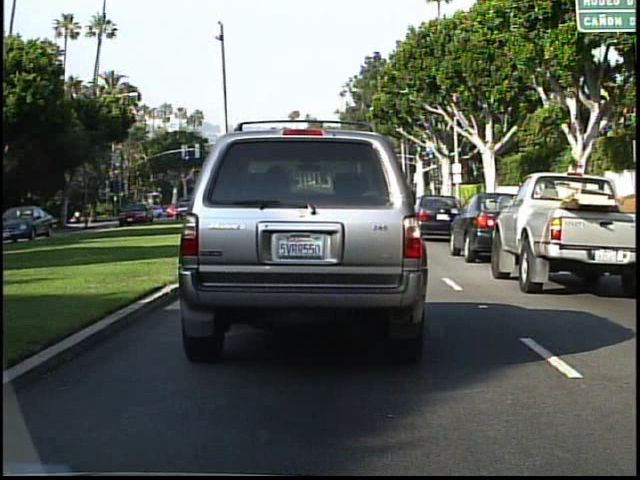car: (175, 133, 451, 359), (504, 171, 640, 295), (447, 196, 504, 259), (1, 202, 55, 242), (418, 196, 455, 240), (117, 200, 151, 223)
